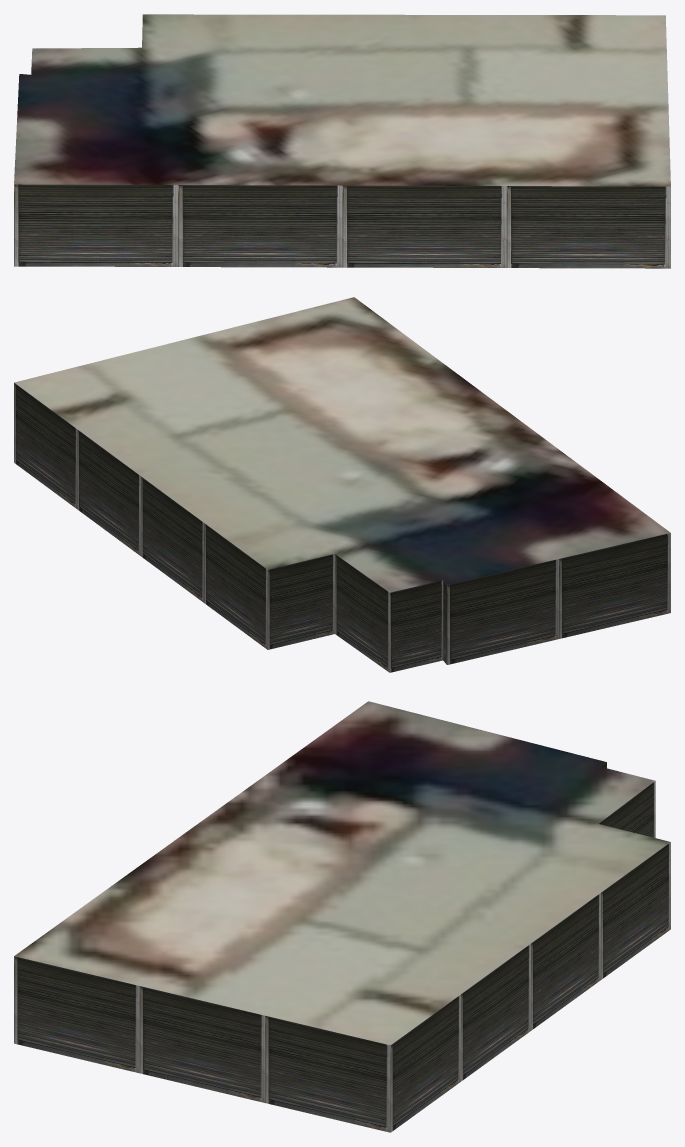
3 views of the same model, one above another, from view 1: azimuth 30°, elevation 25°; view 2: azimuth 150°, elevation 25°; view 3: azimuth 270°, elevation 25° (orthographic). The views are drawn at different scales.
Parts seen in each view (by area): view 1: SketchUp (×2); view 2: SketchUp (×6); view 3: SketchUp (×4).
Part boxes in pixels (x1,y1,x2,y2): SketchUp (×2): [14, 14, 670, 268]; SketchUp (×6): [14, 297, 670, 672]; SketchUp (×4): [14, 701, 670, 1132].
Bounding box in the file's own units: 26.61 × 21.46 × 3.15.
Materials: 2 (2 with a texture image).
